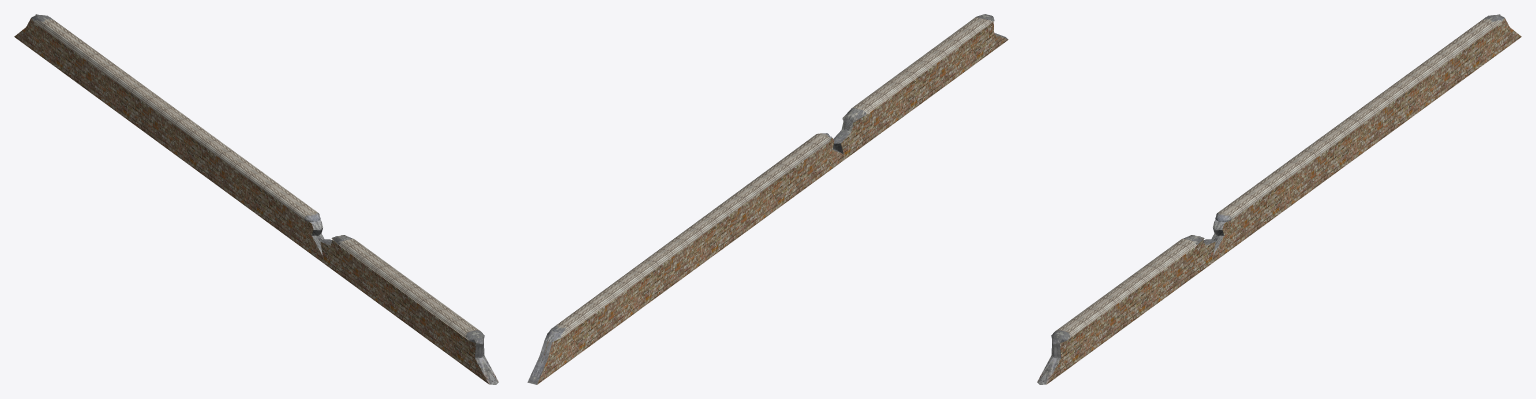
File: Wall_park.FBX
3 views of the same model, side by side, from view 1: azimuth 30°, elevation 25°; view 2: azimuth 150°, elevation 25°; view 3: azimuth 330°, elevation 25° (orthographic).
Visible parts, largest first — view 1: Box001; view 2: Box001; view 3: Box001.
Boxes of the visible parts, x1,y1,x2,y2 form: Box001: (14,14,498,384); Box001: (527,14,1008,384); Box001: (1037,14,1521,384).
Size of the model in its own units: 0.3268 by 0.6538 by 15.62.
1 material, 1 textured.
